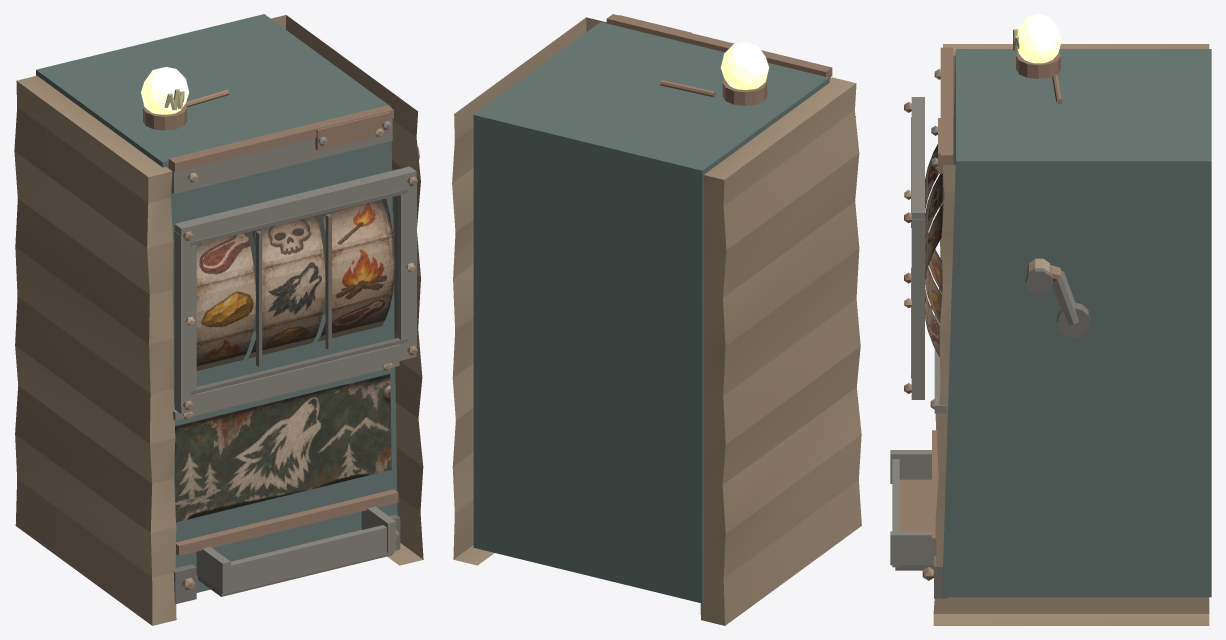
The model's file is automat_model.glb.
3 views of the same model, side by side, from view 1: azimuth 30°, elevation 25°; view 2: azimuth 150°, elevation 25°; view 3: azimuth 270°, elevation 25° (orthographic).
Parts seen in each view (by area): view 1: Wood_Left, Body, Wolf_Paint, Window, Wood_Right, Top_Armor, Reel_2, Reel_3, Tray, Reel_1, Hardware, Reel_Dividers (+2 smaller); view 2: Body, Wood_Left, Wood_Right, Top_Armor, Bulb, Bulb_Base; view 3: Body, Wood_Right, Tray, Window, Crank, Top_Armor, Bulb, Hardware, Wood_Left, Reel_2, Reel_3, Bulb_Base (+1 smaller).
Part boxes in pixels (x1,y1,x2,y2): Wood_Left: [14, 75, 176, 625]; Body: [36, 14, 397, 592]; Wolf_Paint: [174, 374, 391, 522]; Window: [174, 166, 417, 414]; Wood_Right: [271, 15, 423, 565]; Top_Armor: [168, 105, 393, 193]; Reel_2: [248, 215, 325, 358]; Reel_3: [317, 198, 394, 341]; Tray: [196, 506, 396, 596]; Reel_1: [196, 232, 255, 370]; Hardware: [173, 361, 400, 604]; Reel_Dividers: [256, 198, 397, 366]; Body: [473, 22, 829, 603]; Wood_Left: [700, 77, 861, 625]; Wood_Right: [452, 17, 606, 565]; Top_Armor: [606, 14, 832, 78]; Bulb: [720, 42, 769, 89]; Bulb_Base: [660, 79, 767, 105]; Body: [942, 49, 1211, 597]; Wood_Right: [933, 165, 1209, 625]; Tray: [890, 450, 936, 570]; Window: [904, 97, 924, 399]; Crank: [1025, 258, 1090, 338]; Top_Armor: [931, 47, 953, 187]; Bulb: [1017, 14, 1061, 63]; Hardware: [922, 305, 947, 598]; Wood_Left: [935, 44, 1209, 430]; Reel_2: [925, 156, 953, 323]; Reel_3: [925, 203, 943, 357]; Bulb_Base: [1016, 52, 1062, 104].
Bounding box in the file's own units: 0.457 × 0.7 × 0.401.
Materials: 5 (4 with a texture image).
